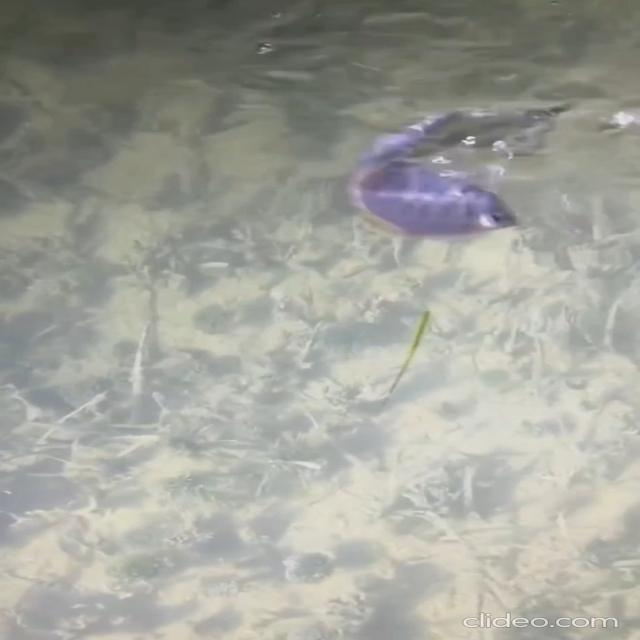fish: (313, 105, 526, 241)
